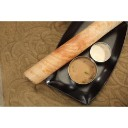dosa: (24, 20, 126, 84)
